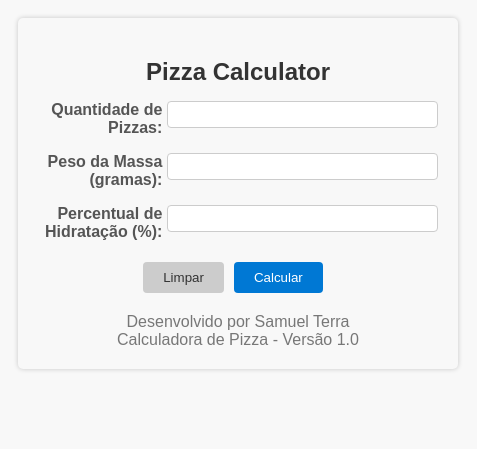
Scenario: Calculator › exibe mensagem de erro ao calcular sem preencher os campos
Click the button "Calcular" at [278, 277], box [234,262,323,293]
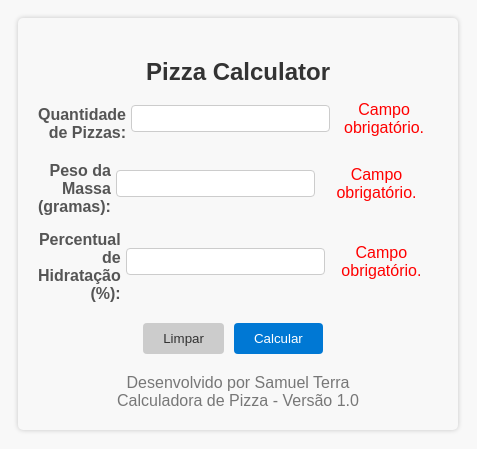
Check: the text with test id "erro-quantidade-pizzas" is shown, box [344,101,424,136]
Check: the text with test id "erro-peso-massa" is shown, box [336,166,416,201]
Check: the text with test id "erro-percentual-hidratacao" is shown, box [341,244,421,279]
